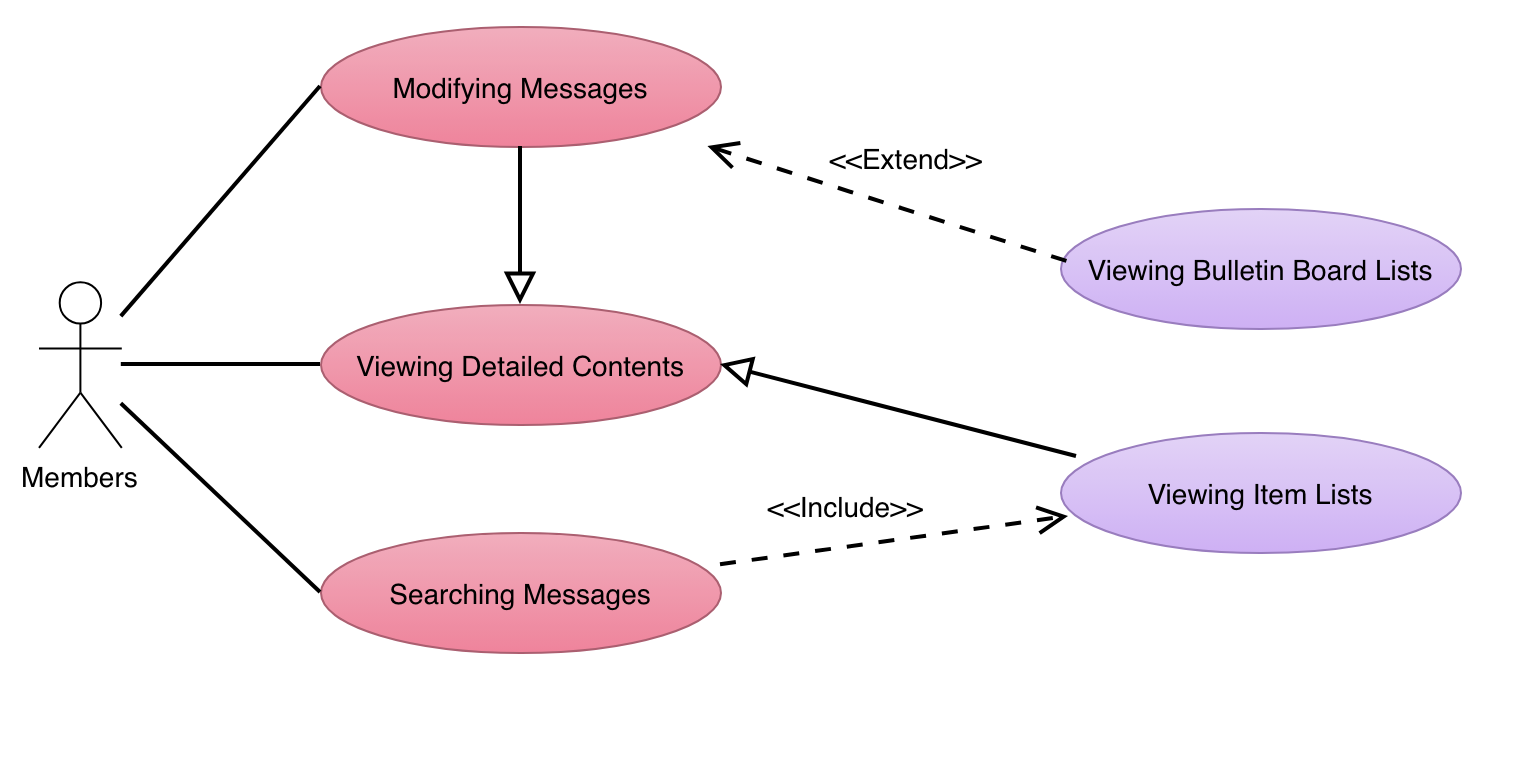actor: (30, 279, 128, 458)
association: (117, 84, 321, 315), (708, 137, 1059, 262), (120, 398, 319, 591), (723, 355, 1076, 461), (720, 503, 1066, 569), (118, 339, 317, 382)
text: (385, 573, 675, 622), (353, 349, 682, 388), (1083, 252, 1439, 287), (385, 68, 651, 107), (1143, 477, 1385, 513), (754, 488, 940, 525), (827, 141, 984, 180), (13, 460, 150, 495)
use_case: (1059, 206, 1466, 334), (1059, 431, 1467, 558), (318, 302, 725, 429), (317, 24, 723, 151), (321, 530, 723, 658)
